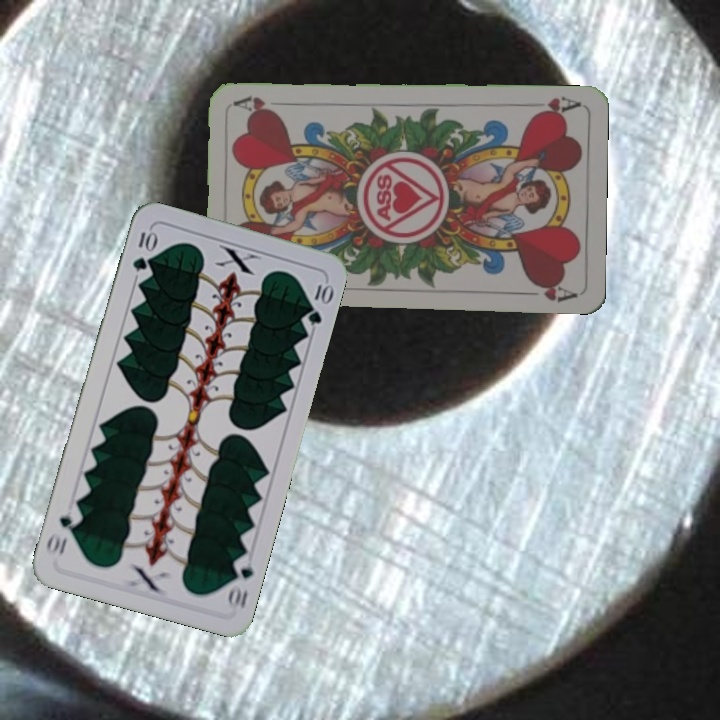G10: (223, 552, 256, 612), (128, 226, 158, 274)
HA: (523, 92, 582, 119)
